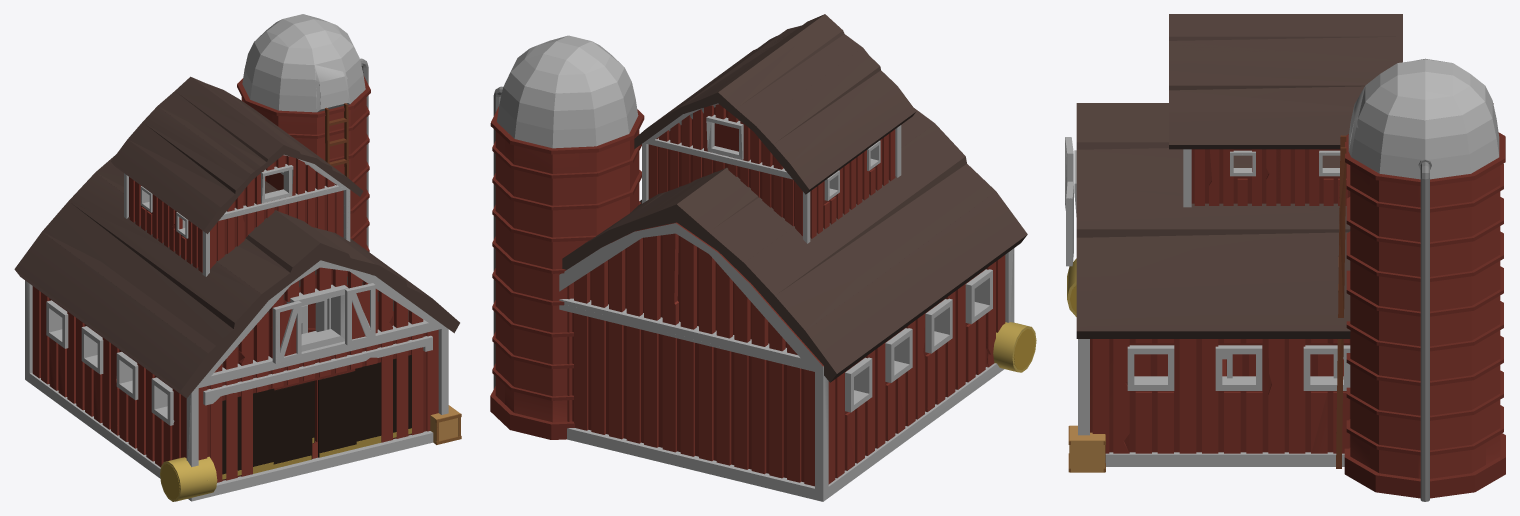
File: barn.glb
3 renders of one model, left to right at view 1: azimuth 30°, elevation 25°; view 2: azimuth 150°, elevation 25°; view 3: azimuth 270°, elevation 25°, orthographic. The views are drawn at different scales.
Visible parts, largest first — view 1: building-barn-3, building-barn-3-far, building-barn-1, building-barn-2, building-barn-2-far, building-barn-1-far, building-barn; view 2: building-barn-3-far, building-barn-3, building-barn-1, building-barn-2, building-barn-2-far, building-barn-1-far; view 3: building-barn-3, building-barn-3-far, building-barn-2-far, building-barn-2, building-barn-1, building-barn, building-barn-1-far.
Boxes of the visible parts, x1=… form: building-barn-3: x1=19, y1=14, x2=461, y2=501; building-barn-3-far: x1=14, y1=41, x2=460, y2=500; building-barn-1: x1=15, y1=205, x2=460, y2=501; building-barn-2: x1=17, y1=77, x2=441, y2=497; building-barn-2-far: x1=30, y1=91, x2=425, y2=492; building-barn-1-far: x1=76, y1=288, x2=381, y2=501; building-barn: x1=222, y1=270, x2=408, y2=443; building-barn-3-far: x1=500, y1=39, x2=1034, y2=501; building-barn-3: x1=490, y1=14, x2=1035, y2=478; building-barn-1: x1=567, y1=156, x2=1036, y2=486; building-barn-2: x1=560, y1=14, x2=1036, y2=483; building-barn-2-far: x1=559, y1=33, x2=1035, y2=475; building-barn-1-far: x1=574, y1=236, x2=1034, y2=485; building-barn-3: x1=1065, y1=14, x2=1505, y2=501; building-barn-3-far: x1=1067, y1=26, x2=1500, y2=478; building-barn-2-far: x1=1065, y1=40, x2=1402, y2=466; building-barn-2: x1=1065, y1=40, x2=1367, y2=469; building-barn-1: x1=1065, y1=137, x2=1350, y2=472; building-barn: x1=1134, y1=354, x2=1343, y2=378; building-barn-1-far: x1=1067, y1=281, x2=1344, y2=466.
Size of the model in its own units: 8.17 by 7.5 by 7.53.
